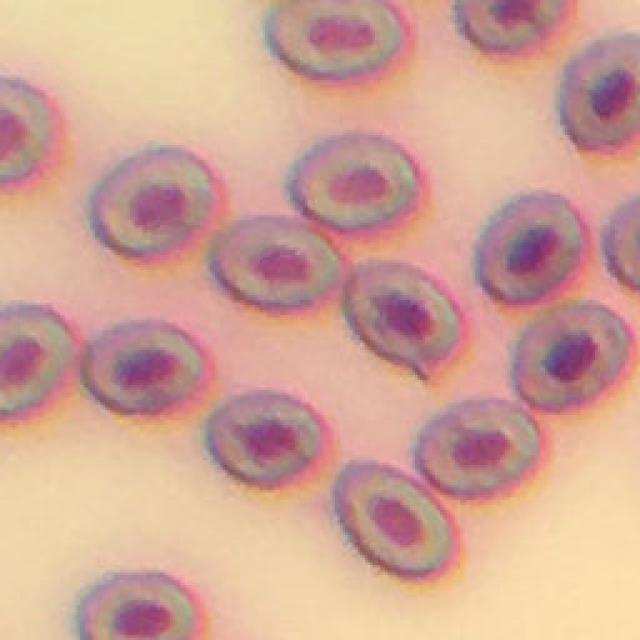RBC: (92, 144, 212, 260), (336, 462, 454, 579), (510, 304, 635, 411), (473, 194, 592, 305), (289, 134, 421, 231), (346, 258, 461, 368), (212, 219, 346, 313), (82, 322, 210, 420), (263, 0, 406, 86), (420, 402, 545, 496), (209, 390, 325, 489), (560, 34, 640, 149), (0, 304, 79, 420), (76, 572, 203, 640), (455, 0, 572, 55), (0, 79, 57, 187)
